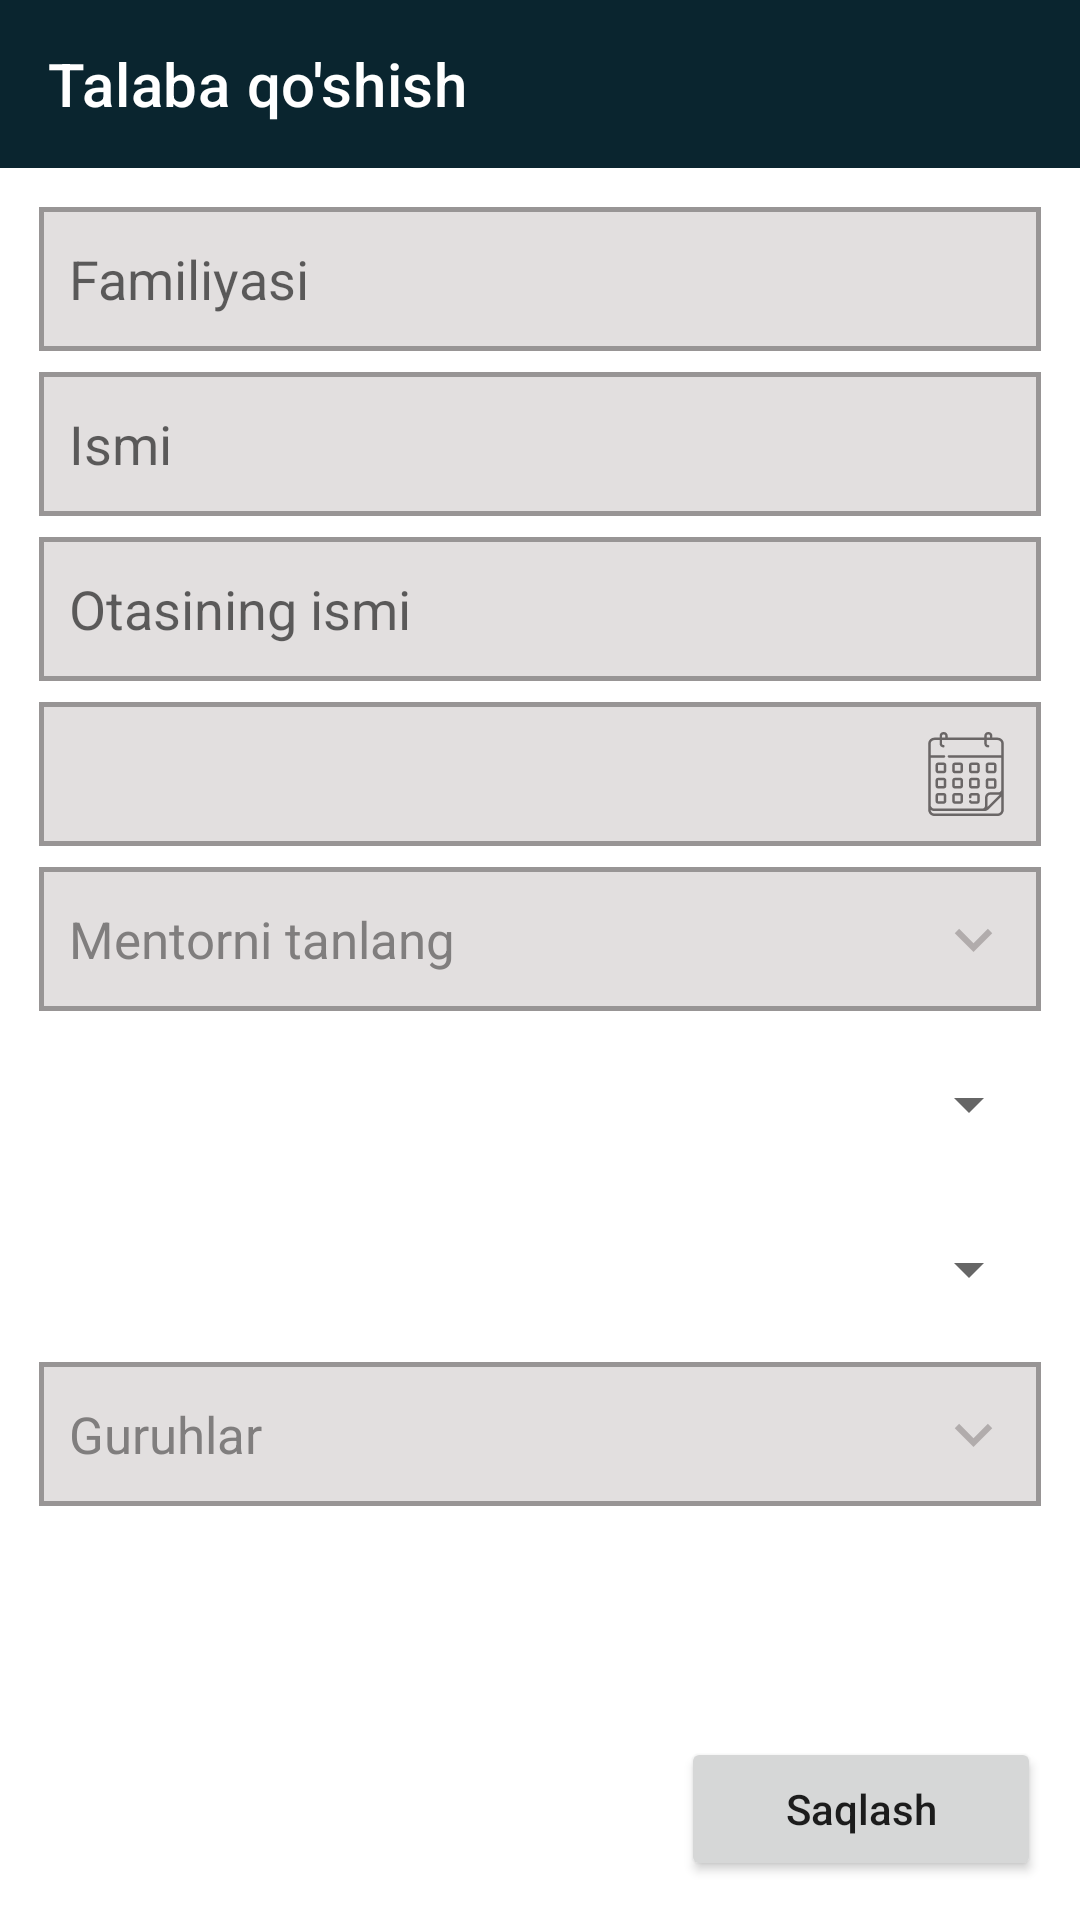

Icons on this 1080*1920 Android screen, each with its box as {"left": x1, "top": y1, "right": x2, "bottom": y2}:
calendar: {"left": 928, "top": 732, "right": 1004, "bottom": 816}
